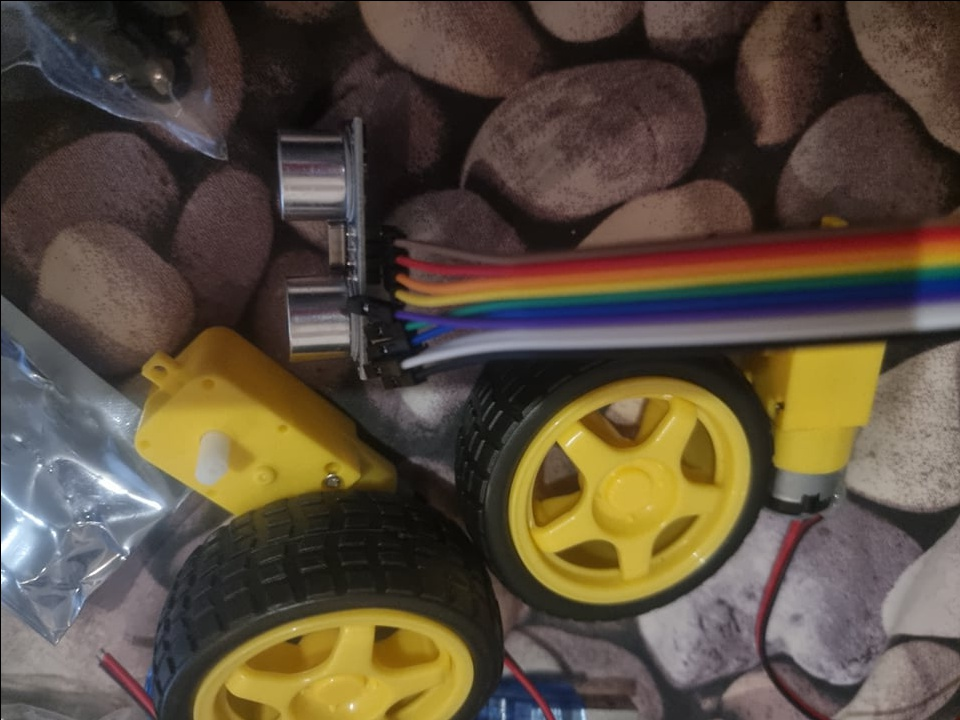SENSOR: (268, 107, 367, 384)
